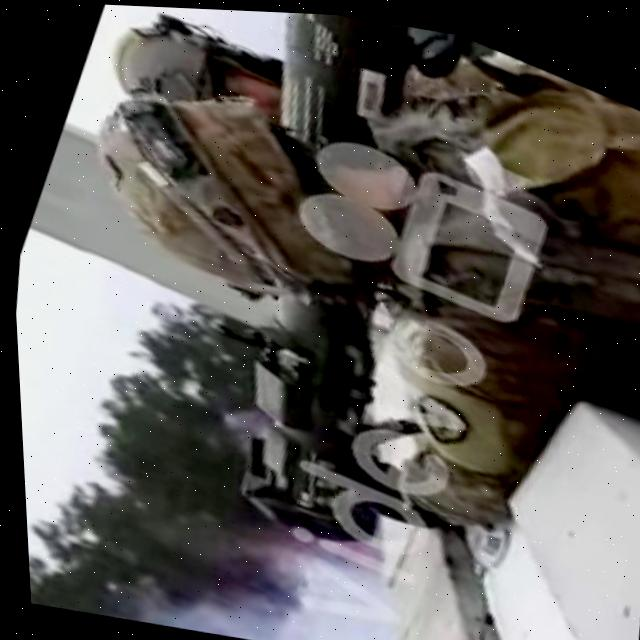rocket: (92, 3, 527, 570)
